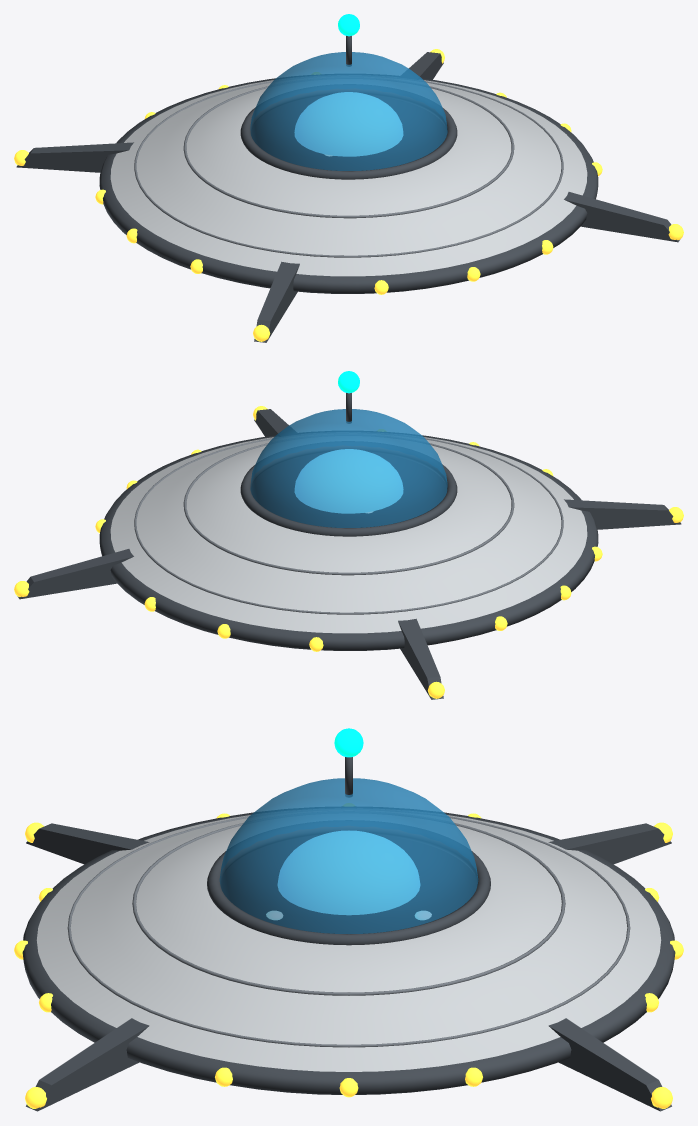
File: ufo.glb
3 renders of one model, top to bottom at view 1: azimuth 30°, elevation 25°; view 2: azimuth 150°, elevation 25°; view 3: azimuth 270°, elevation 25°, orthographic. The views are drawn at different scales.
Visible parts, largest first — view 1: Saucer, Fins; view 2: Saucer, Fins; view 3: Saucer, Fins.
Boxes of the visible parts, left/top/right/bottom form: Saucer: left=95, top=14, right=602, bottom=294; Fins: left=14, top=49, right=683, bottom=342; Saucer: left=95, top=371, right=602, bottom=651; Fins: left=14, top=406, right=683, bottom=699; Saucer: left=14, top=728, right=683, bottom=1097; Fins: left=25, top=822, right=672, bottom=1111.
Size of the model in its own units: 2.06 by 1.02 by 2.06.
